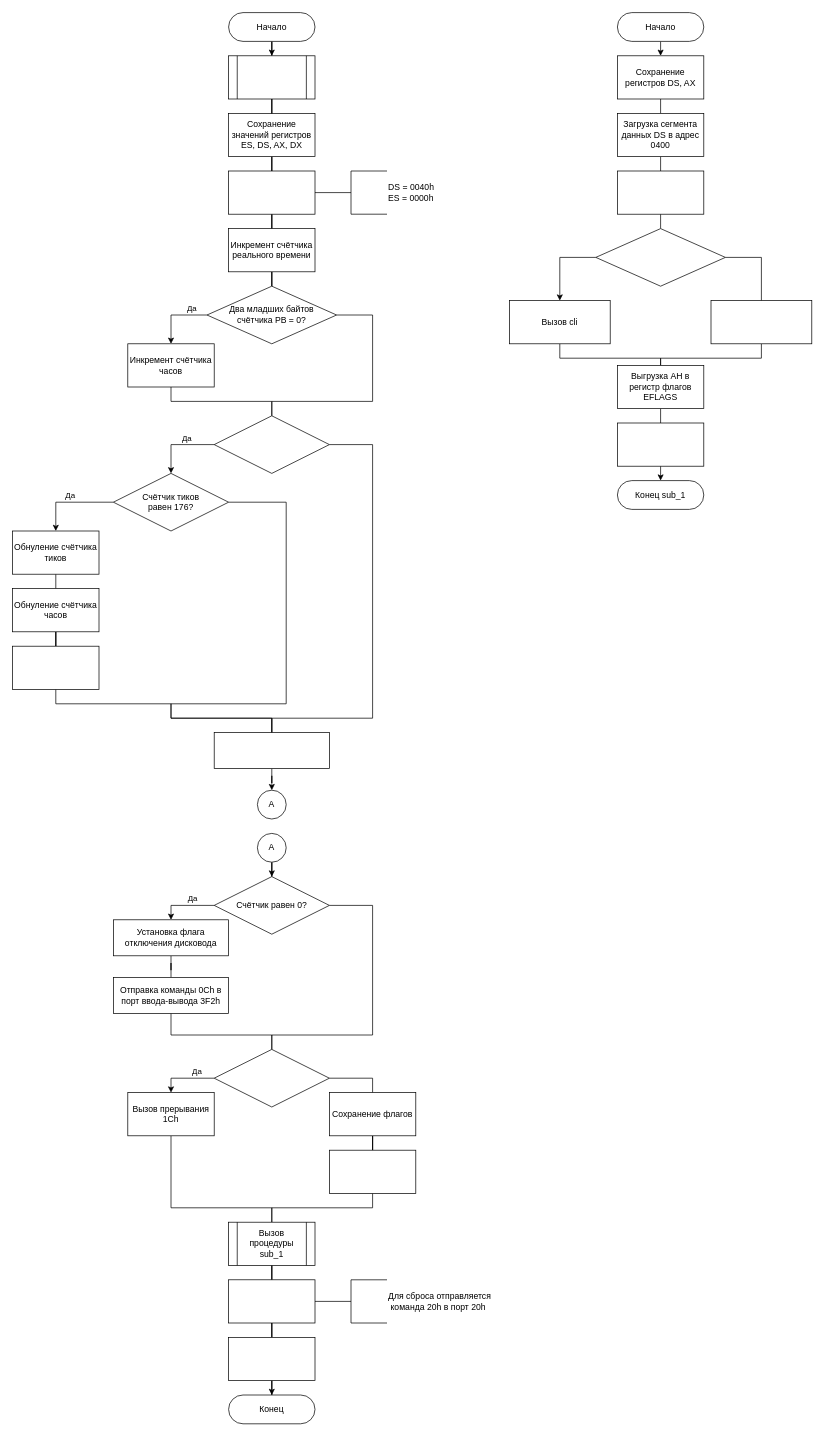
Some shapes in this 824 by 1436 pixel diagram are drawn without their labels. The shapes that lost their labels are listed below. From the top down, each one's centre as x and y in pixels, then its label:
At point 271,77: "Вызов подпрограммы sub_1".
At point 271,192: "Установка сегментных регистров ES и DS".
At point 660,192: "Загрузга регистра флагов EFLAGS в AH".
At point 660,257: "Установлен ли DF или страший бит IOPL?".
At point 761,322: "Сброс IF".
At point 271,444: "Счётчик часов равен 24?".
At point 660,444: "Восстановление значений регистров DS, AX".
At point 55,667: "Установка флага прошедших суток".
At point 271,750: "Декремент счётчика времени до отключения моторчика дисковода".
At point 271,1078: "Установлен ли флаг чётности PF?".
At point 372,1171: "Косвенный вызов прерывания 1Ch".
At point 271,1301: "Сброс контроллера прерываний".
At point 271,1359: "Восстановление регистров DX, AX, DS, ES".
